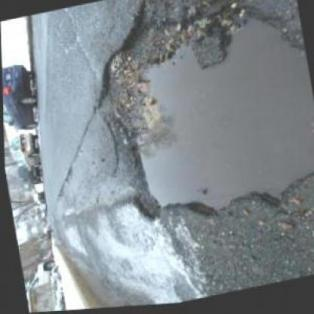Hueco: (76, 0, 313, 247)
